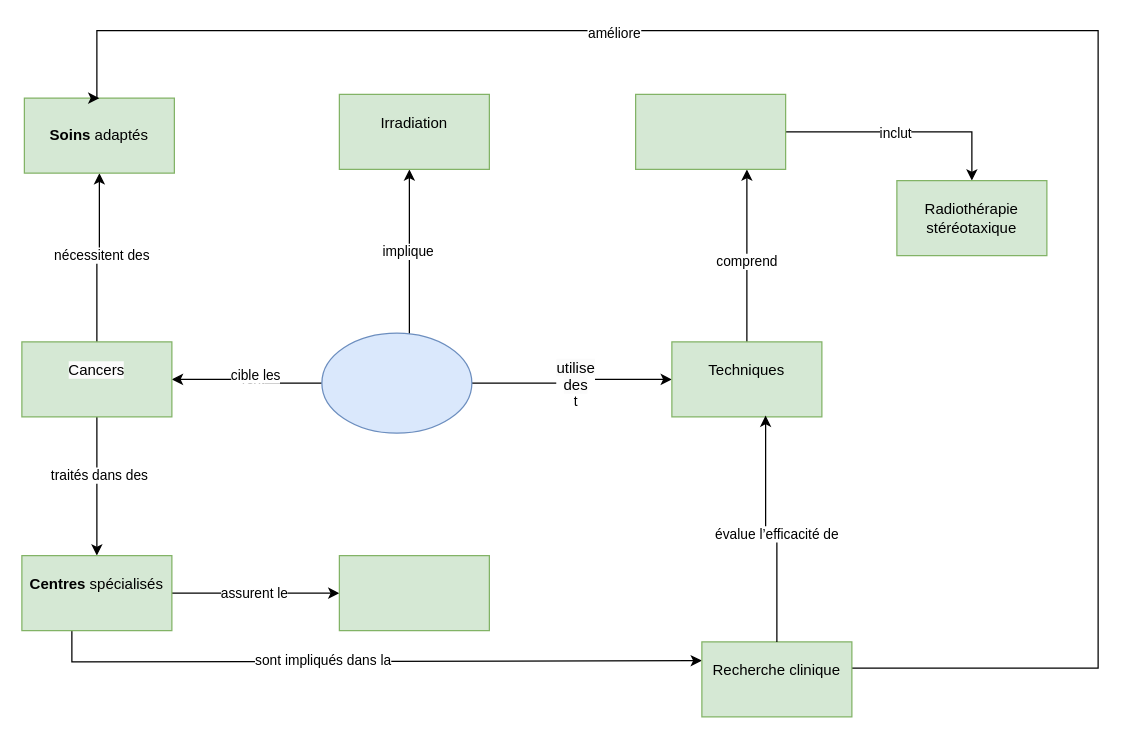
Some shapes in this 1130 by 739 pixel diagram are drawn without their labels. The box of each missing label's shape, as (x1, y1, x2, y2) in pixels:
Contrôle qualité des traitements: (338, 554, 489, 631)
Modulation d’intensité .: (634, 93, 786, 169)
Radiothérapie: (321, 332, 472, 433)
